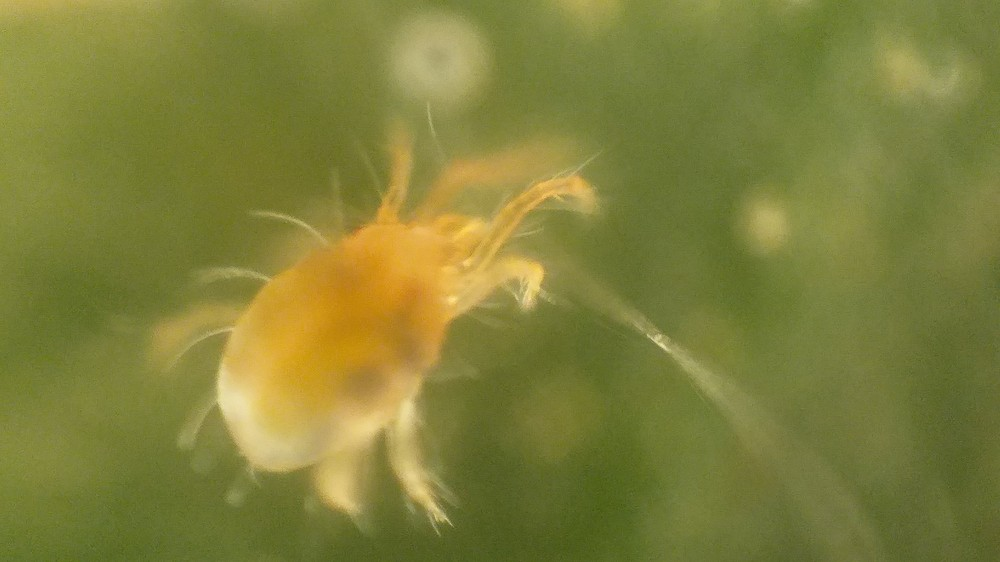Aracnido Rojo: (156, 110, 639, 540)
